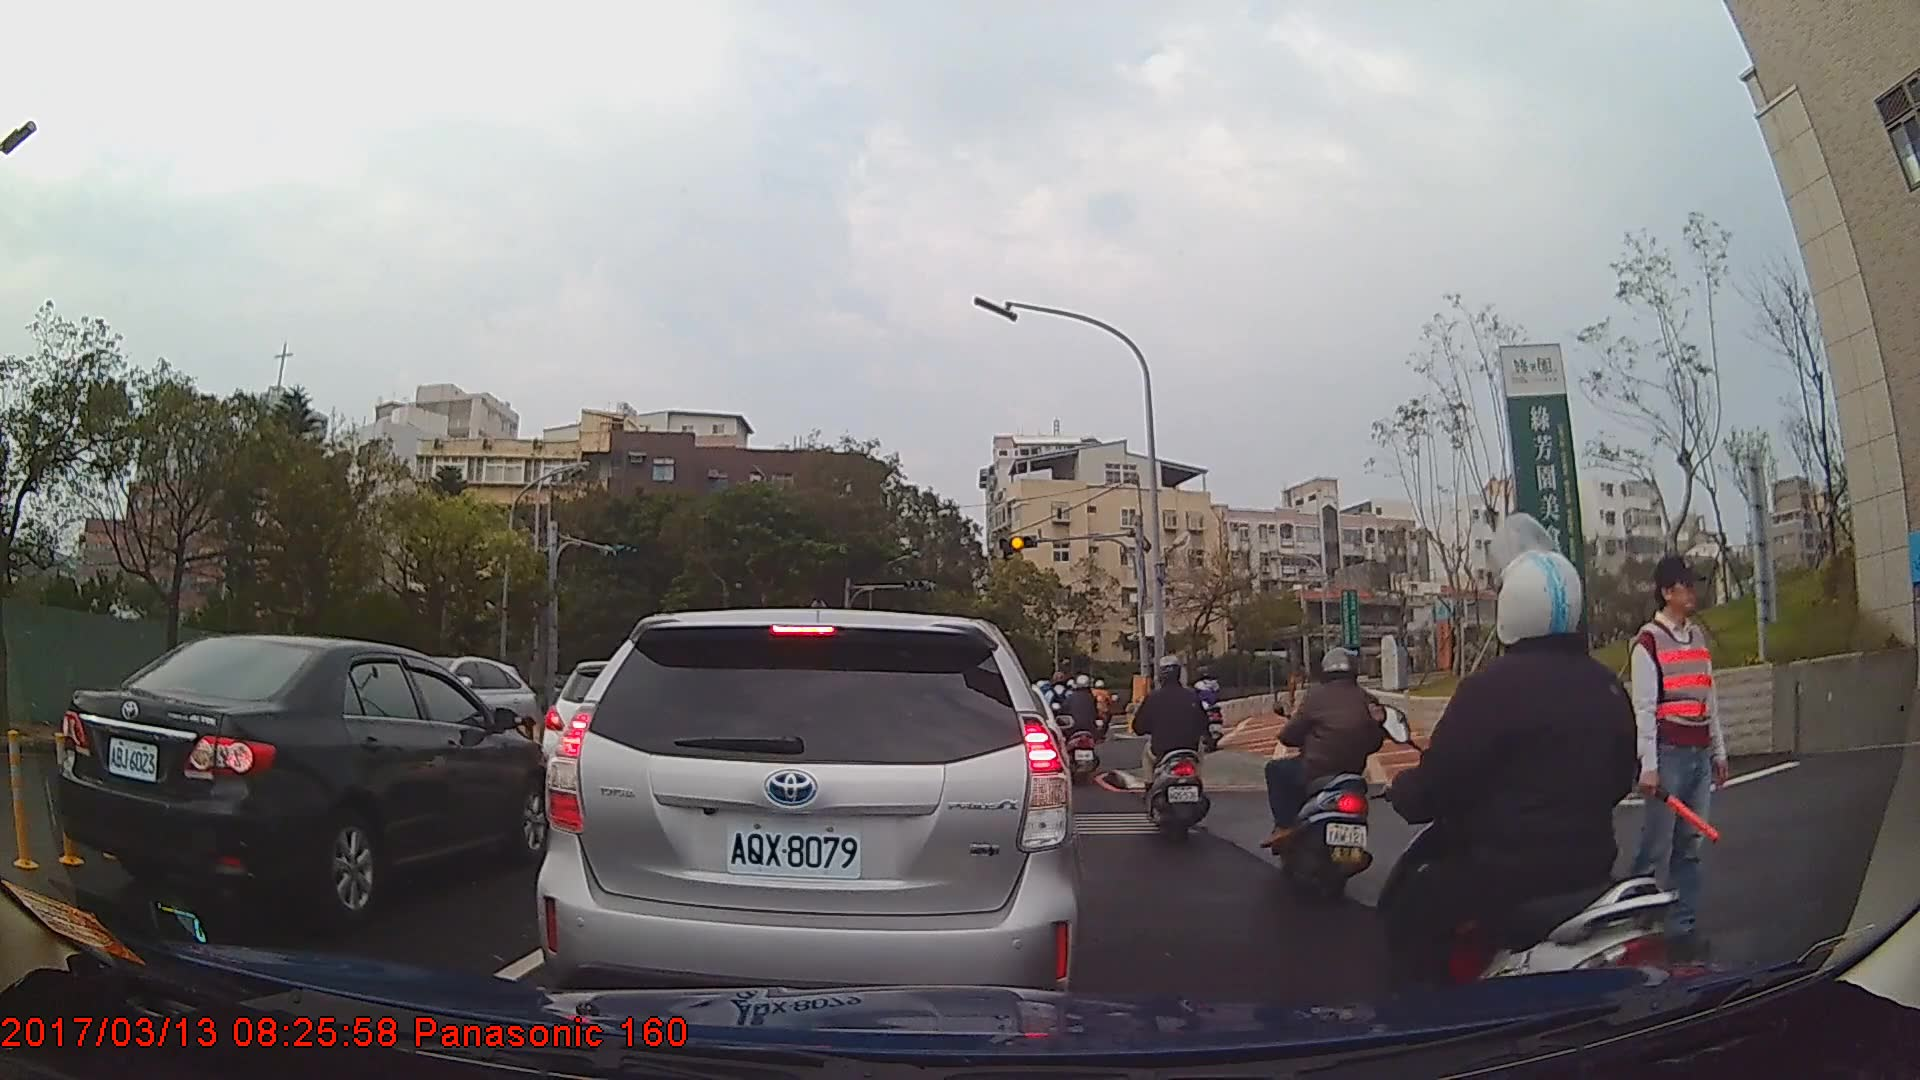pedestrian: (1628, 553, 1728, 955)
rider: (1375, 547, 1690, 1063), (1263, 645, 1387, 904), (1133, 650, 1213, 846), (1065, 674, 1104, 786), (1190, 665, 1226, 753), (1085, 676, 1116, 741)
vehicle: (535, 606, 1078, 1026), (57, 632, 554, 918), (399, 656, 536, 750)
